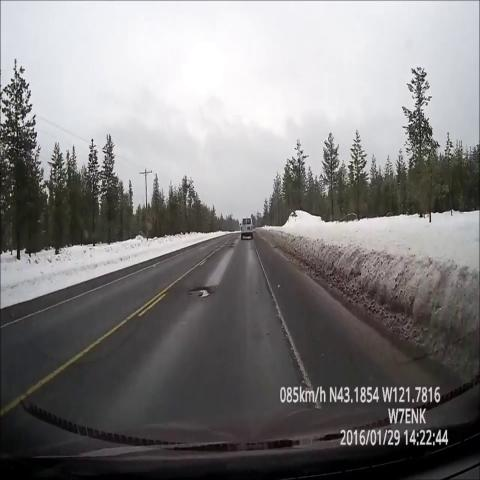pothole: (185, 274, 219, 312), (227, 238, 240, 258)
